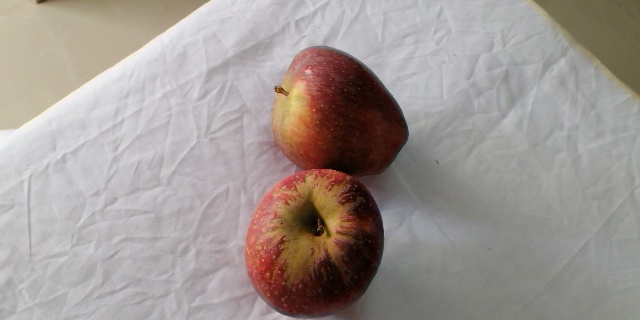apple_kashmir: (245, 168, 386, 320), (270, 45, 411, 177)
